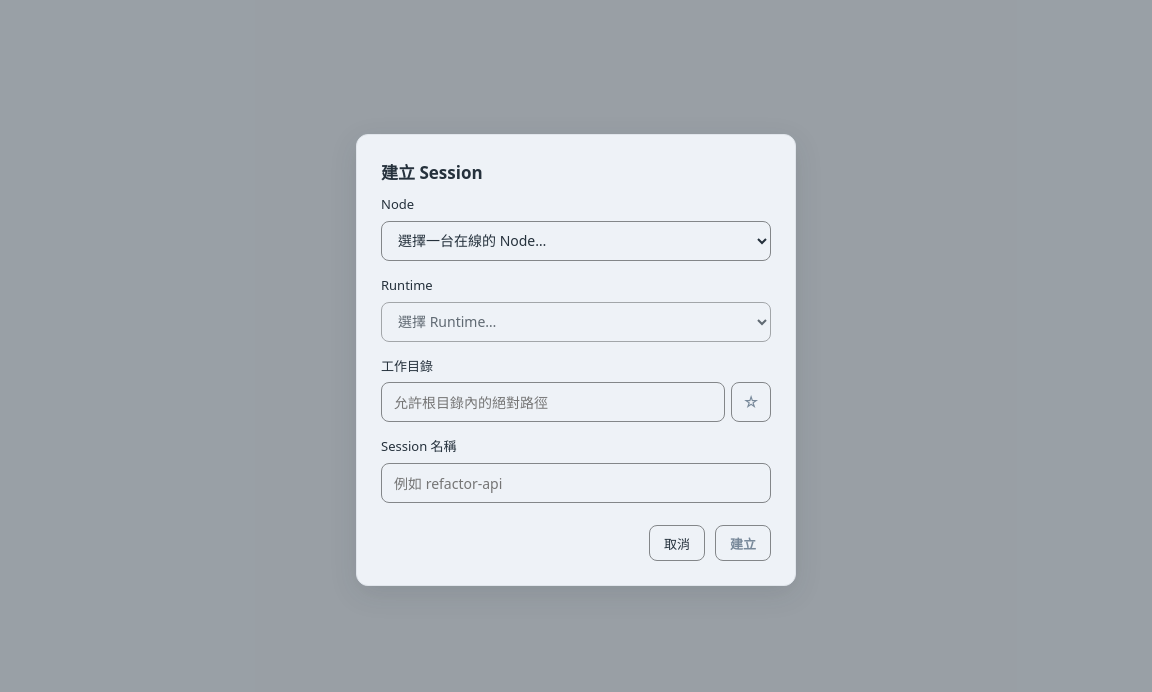
Scenario: NewSessionDialog shortcuts › gives each unusable favourite its own reason
Select "vm (vm)" in the dropdown labelled "Node" at x=576, y=241, box [381, 221, 771, 261]
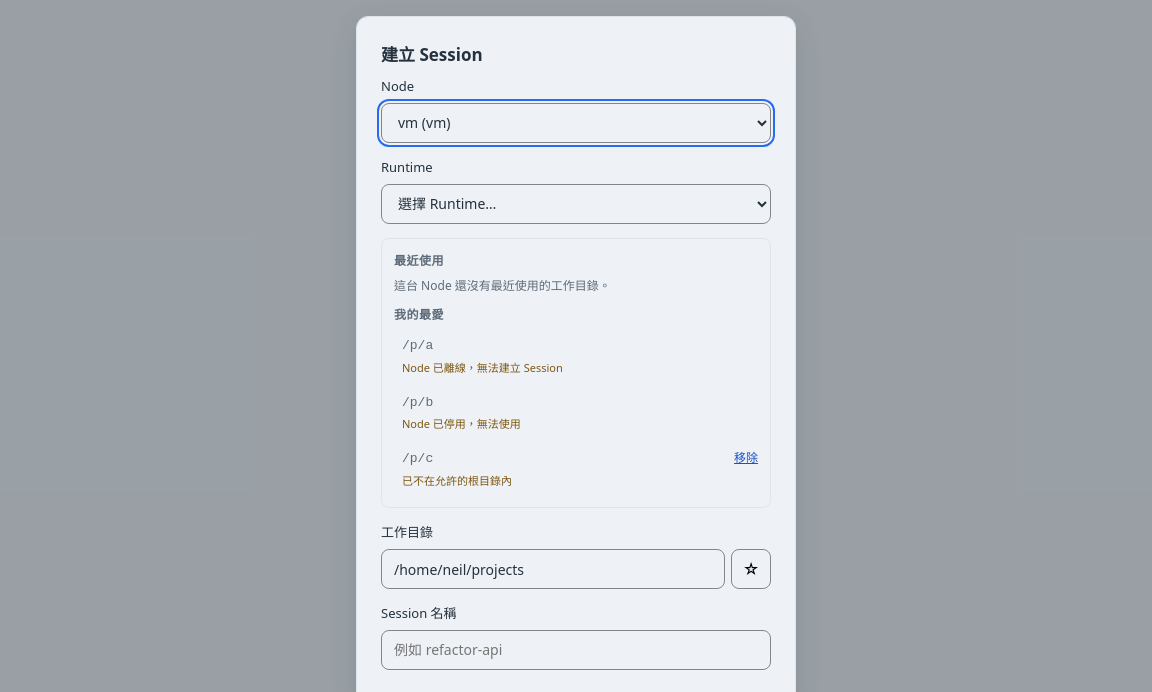
Now the element named "工作目錄捷徑" shows "Node 已離線", box [394, 330, 758, 383]
Now the element named "工作目錄捷徑" shows "Node 已停用", box [394, 386, 758, 439]
Now the element named "工作目錄捷徑" shows "已不在允許的根目錄內", box [394, 443, 726, 495]
